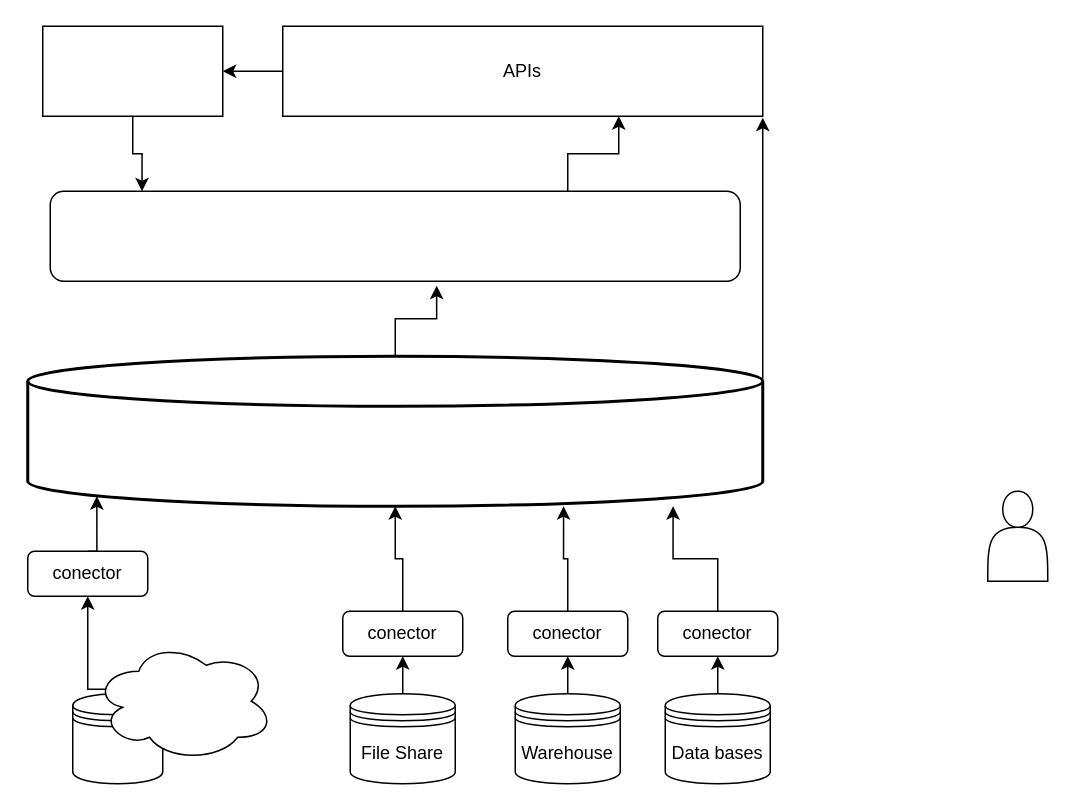
Some shapes in this 1074 by 810 pixel diagram are drawn without their labels. Each missing label, with the centre of its shape:
"Enterprise Data HUB" belongs at (x=395, y=430).
"Event buffer" belongs at (x=132, y=70).
"External" belongs at (x=183, y=700).
"Search Engine" belongs at (x=394, y=235).
